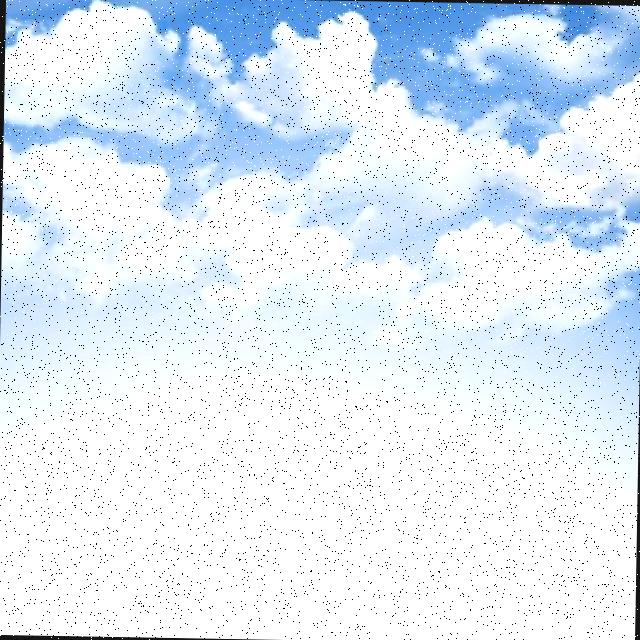Cu: (1, 10, 640, 419)
